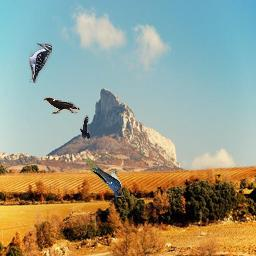Crow: (43, 97, 80, 114), (80, 115, 90, 140)
Swallow: (86, 157, 124, 197)
Woodpecker: (29, 43, 52, 83)
